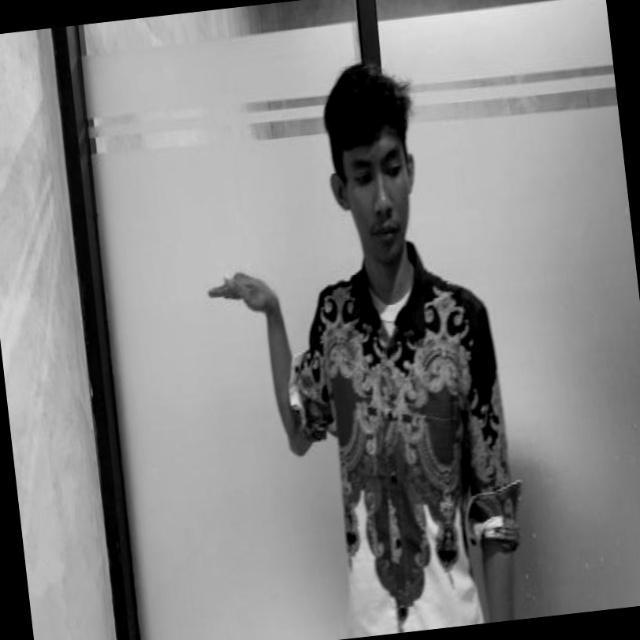Z: (199, 259, 321, 472)
